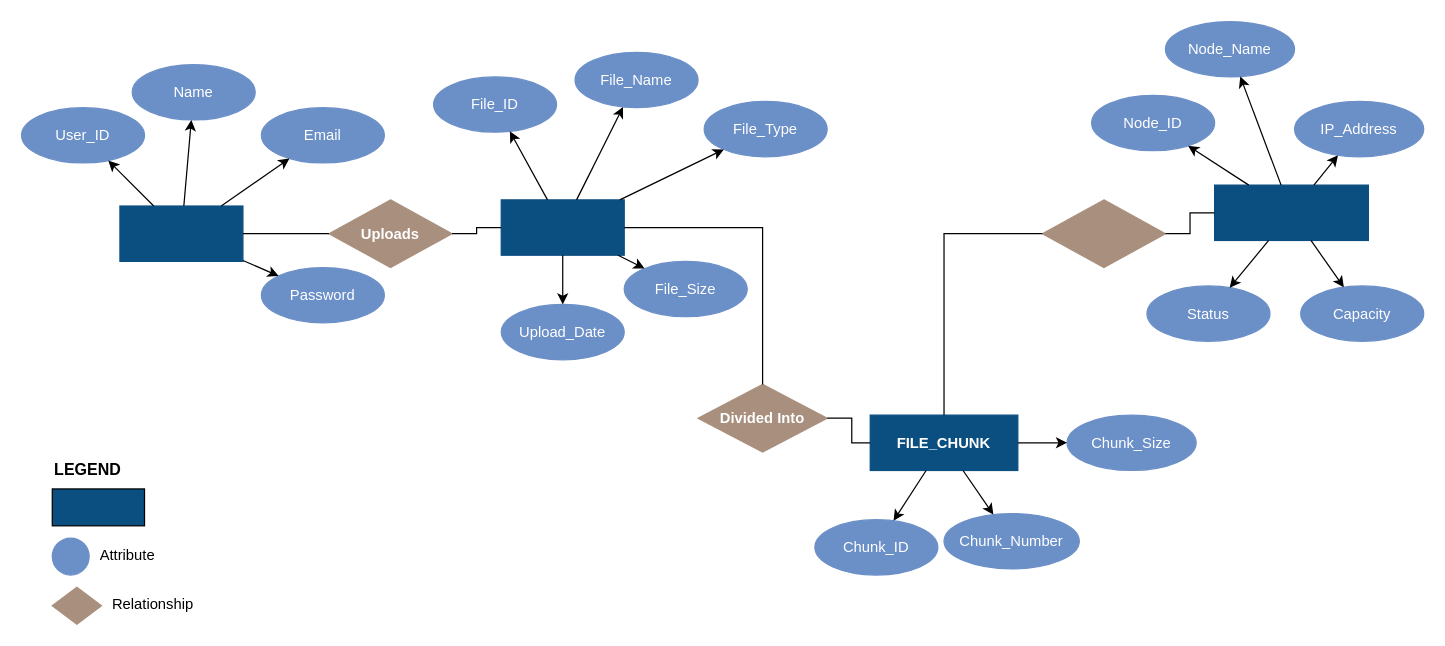
Some shapes in this 1445 by 646 pixel diagram are drawn without their labels. Each missing label, with the box of its shape:
Entity: (51, 488, 145, 526)
FILE: (500, 199, 624, 255)
STORAGE_NODE: (1213, 184, 1368, 240)
Stored On: (1041, 199, 1165, 268)
USER: (119, 205, 243, 261)
